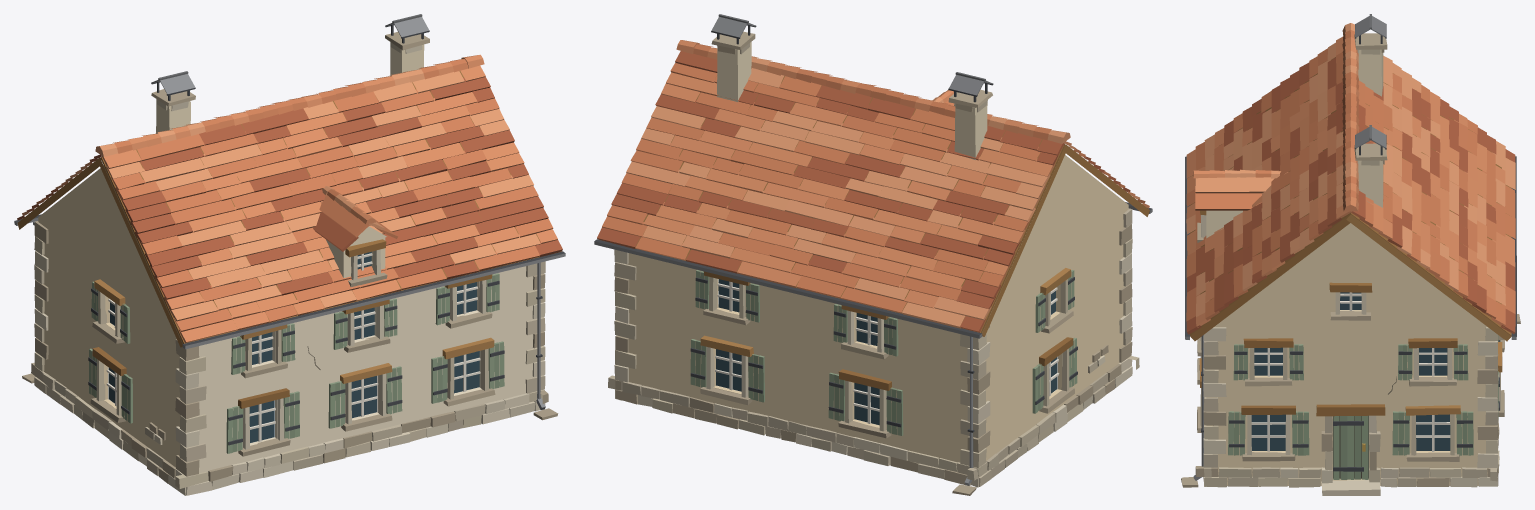
The model's file is maison.glb.
3 views of the same model, side by side, from view 1: azimuth 30°, elevation 25°; view 2: azimuth 150°, elevation 25°; view 3: azimuth 270°, elevation 25° (orthographic). The views are drawn at different scales.
Visible parts, largest first — view 1: maison; view 2: maison; view 3: maison.
Part boxes in pixels (bbox=[...]): maison: bbox=[14, 14, 565, 495]; maison: bbox=[594, 14, 1152, 495]; maison: bbox=[1181, 14, 1520, 495].
Bounding box in the file's own units: 12.05 × 10.12 × 9.41.
